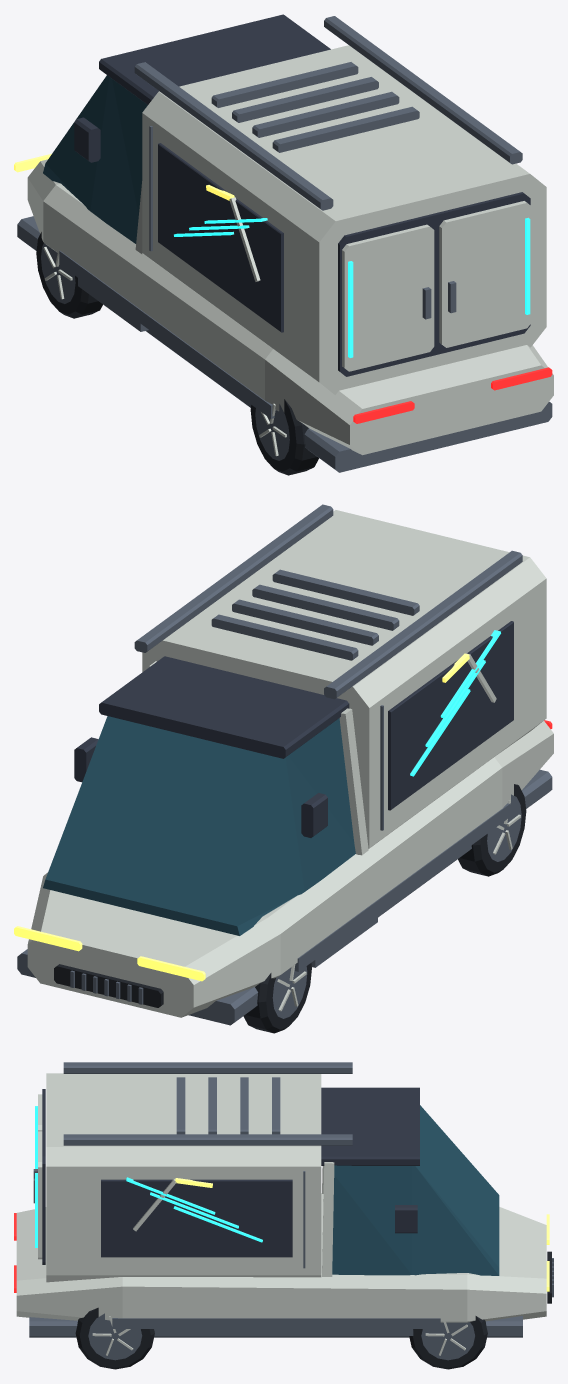
Rendered from heron_van.glb.
The picture shows the model from 3 angles, top to bottom: view 1: azimuth 30°, elevation 25°; view 2: azimuth 150°, elevation 25°; view 3: azimuth 270°, elevation 25°; orthographic projection. The views are drawn at different scales.
Visible parts, largest first — view 1: Body_Paint_Ivory, Body_Paint_Obsidian, Body_Metal_Chassis, Body_Glass_Opaque, Rubber (×2), Metal_Chassis (×2), Body_Neon_Cyan, Body_Lamp_Red; view 2: Body_Paint_Ivory, Body_Glass_Opaque, Body_Paint_Obsidian, Body_Metal_Chassis, Rubber (×2), Metal_Chassis (×2), Body_Rubber, Body_Lamp_Amber, Body_Neon_Cyan; view 3: Body_Paint_Ivory, Body_Paint_Obsidian, Body_Glass_Opaque, Body_Metal_Chassis, Metal_Chassis (×2), Rubber (×2), Body_Neon_Cyan, Body_Lamp_Amber.
Part boxes in pixels (<box>): Body_Paint_Ivory: <box>27,45,553,455</box>; Body_Paint_Obsidian: <box>74,14,530,376</box>; Body_Metal_Chassis: <box>17,16,552,472</box>; Body_Glass_Opaque: <box>43,75,147,243</box>; Rubber (×2): <box>36,232,318,475</box>; Metal_Chassis (×2): <box>41,243,289,460</box>; Body_Neon_Cyan: <box>174,217,530,357</box>; Body_Lamp_Red: <box>353,367,552,423</box>; Body_Paint_Ivory: <box>27,510,553,1017</box>; Body_Glass_Opaque: <box>43,716,355,935</box>; Body_Paint_Obsidian: <box>74,621,513,837</box>; Body_Metal_Chassis: <box>17,504,552,1025</box>; Rubber (×2): <box>243,784,526,1033</box>; Metal_Chassis (×2): <box>272,794,521,1018</box>; Body_Rubber: <box>54,964,163,1007</box>; Body_Lamp_Amber: <box>14,653,469,981</box>; Body_Neon_Cyan: <box>410,630,500,776</box>; Body_Paint_Ivory: <box>16,1073,546,1322</box>; Body_Paint_Obsidian: <box>42,1087,419,1264</box>; Body_Glass_Opaque: <box>332,1105,499,1275</box>; Body_Metal_Chassis: <box>29,1062,553,1337</box>; Metal_Chassis (×2): <box>88,1313,474,1360</box>; Rubber (×2): <box>75,1307,487,1369</box>; Body_Neon_Cyan: <box>35,1106,262,1247</box>; Body_Lamp_Amber: <box>175,1178,549,1291</box>.
Bounding box in the file's own units: 1.9 × 2.22 × 4.77.
